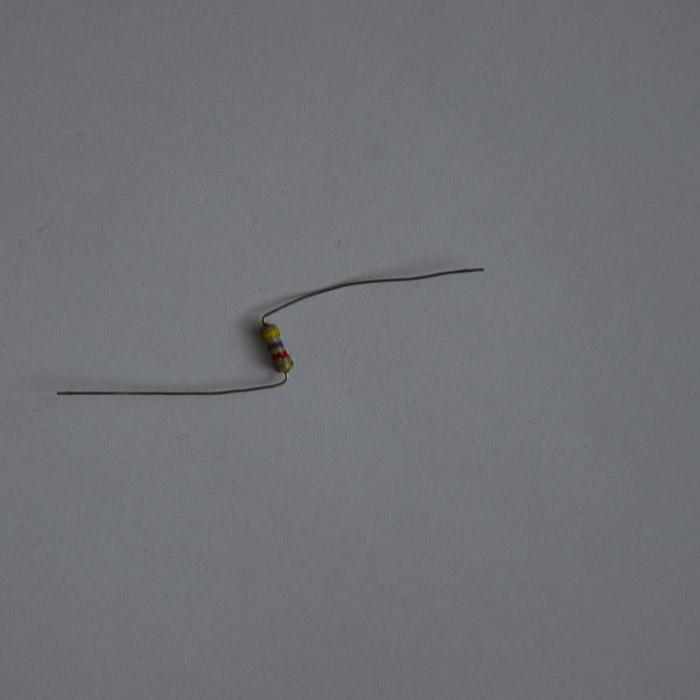resistor: (260, 321, 294, 373)
